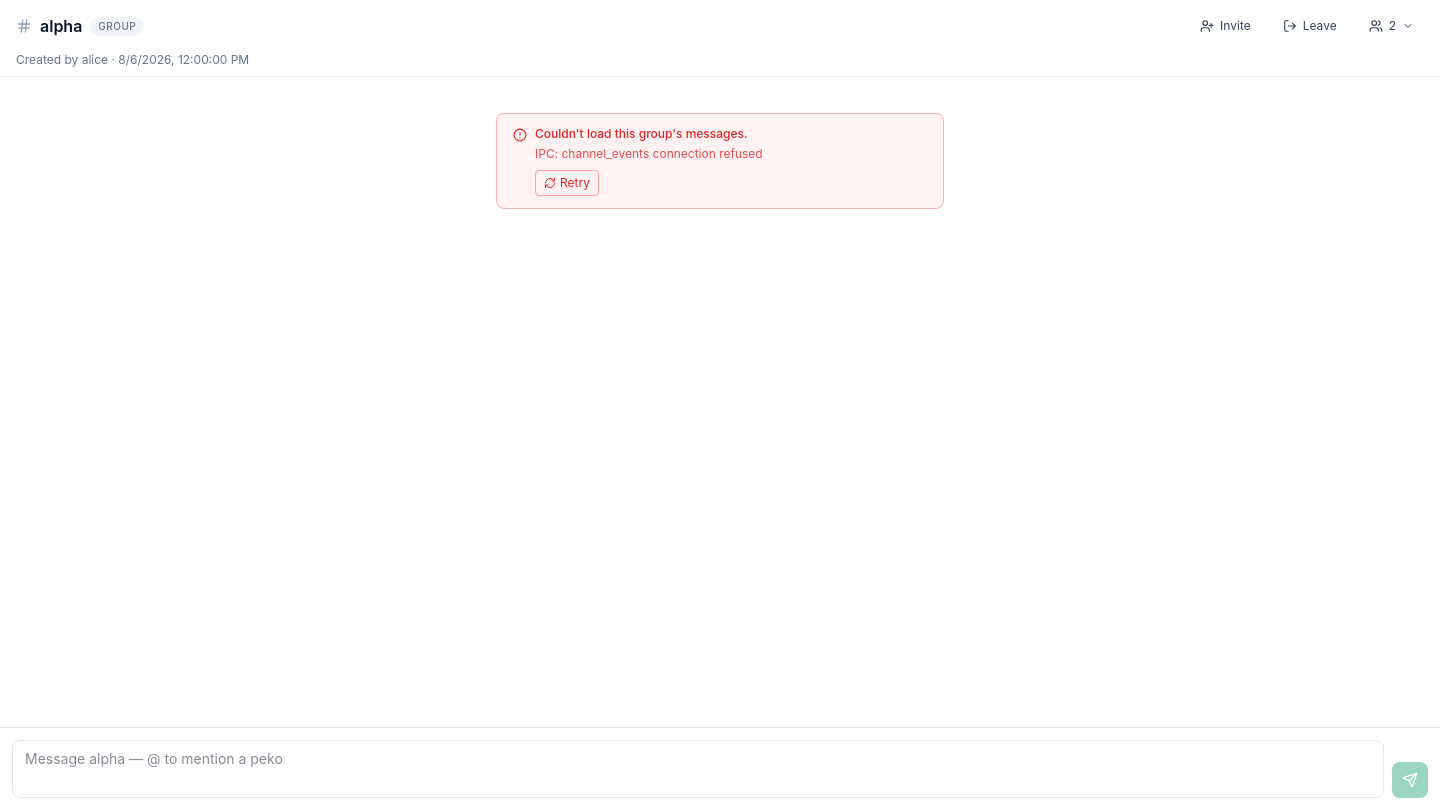
Test: ChannelView › renders an error banner with a Retry button when channelEvents IPC fails
Expected: the message with test id "channel-events-error" is shown, [496, 113, 944, 209]
Expected: the text "Couldn't load this group's messages." is shown, [535, 126, 748, 141]
Click the button with test id "channel-events-retry": (567, 183) [535, 170, 599, 196]
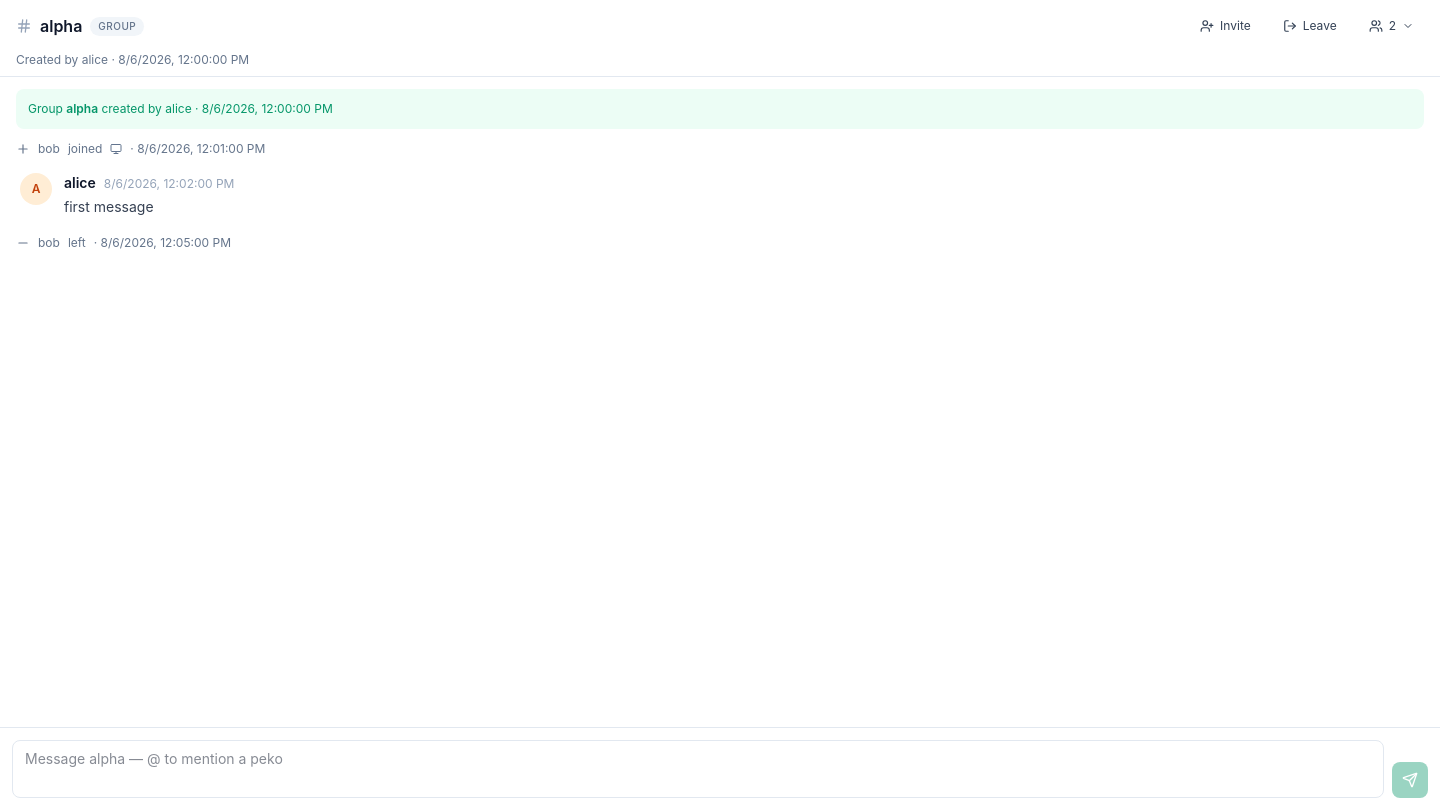
Now the number of list items with test id "channel-event-row" is 4, box [16, 89, 1424, 129]; [16, 141, 265, 156]; [20, 173, 234, 215]; [16, 235, 231, 250]
